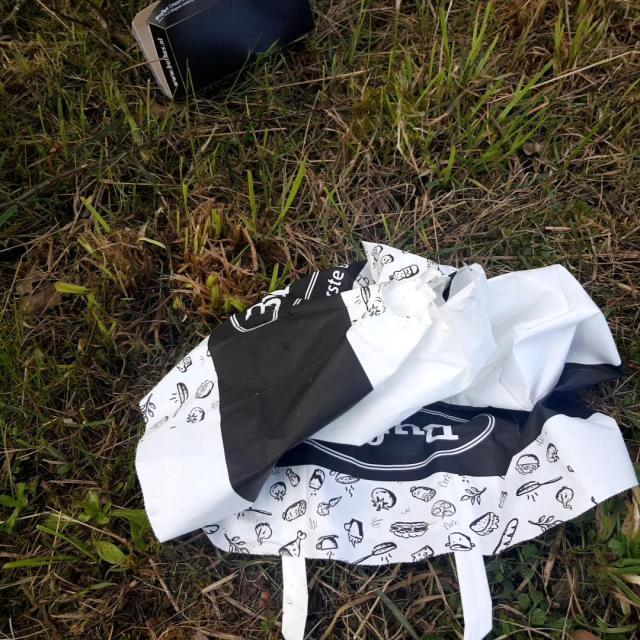Paper: (130, 234, 640, 640), (127, 0, 318, 100)
